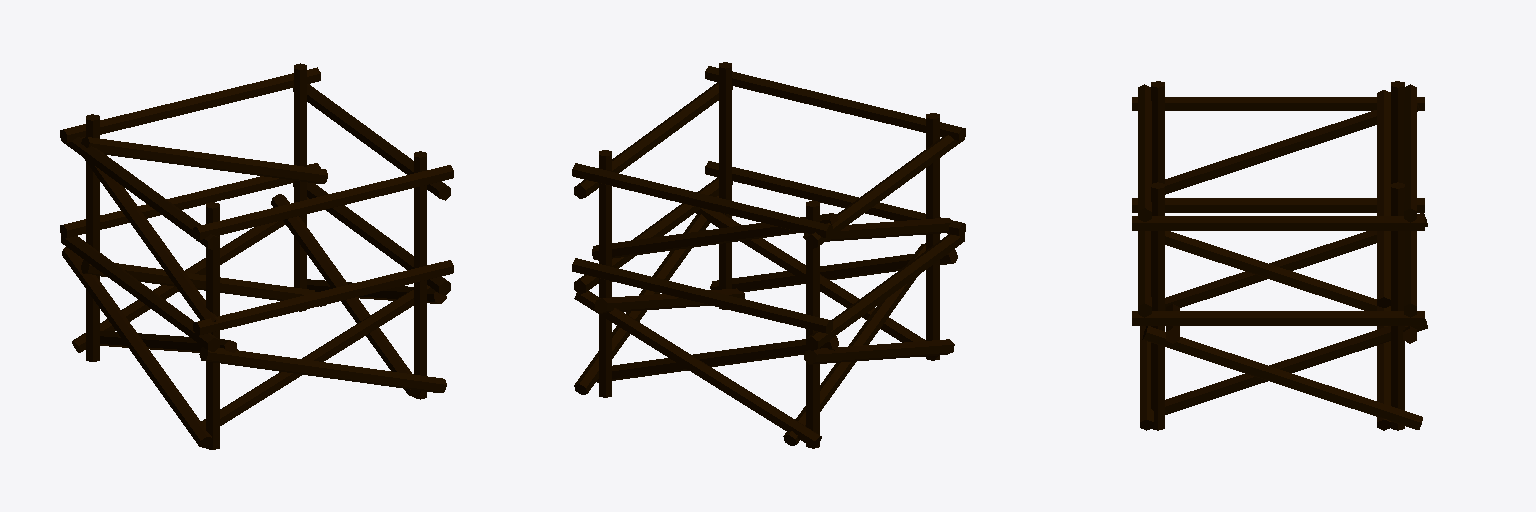
The model's file is BuildingSite0.obj.
3 views of the same model, side by side, from view 1: azimuth 30°, elevation 25°; view 2: azimuth 150°, elevation 25°; view 3: azimuth 270°, elevation 25° (orthographic).
Visible parts, largest first — view 1: Cylinder061, Cylinder073, Cylinder064, Cylinder068, Cylinder057, Cylinder074, Cylinder063, Cylinder070, Cylinder066, Cylinder060, Cylinder054, Cylinder058 (+10 smaller); view 2: Cylinder062, Cylinder058, Cylinder074, Cylinder073, Cylinder057, Cylinder061, Cylinder056, Cylinder060, Cylinder053, Cylinder063, Cylinder064, Cylinder071 (+10 smaller); view 3: Cylinder072, Cylinder059, Cylinder065, Cylinder060, Cylinder070, Cylinder067, Cylinder066, Cylinder071, Cylinder068, Cylinder057, Cylinder053, Cylinder054 (+8 smaller).
Boxes of the visible parts, <box> form: Cylinder061: <box>193,260,453,335</box>; Cylinder073: <box>193,165,453,240</box>; Cylinder064: <box>199,347,446,392</box>; Cylinder068: <box>62,247,212,447</box>; Cylinder057: <box>81,137,327,183</box>; Cylinder074: <box>60,67,320,143</box>; Cylinder063: <box>201,285,430,427</box>; Cylinder070: <box>82,137,217,321</box>; Cylinder066: <box>271,194,420,396</box>; Cylinder060: <box>61,235,219,351</box>; Cylinder054: <box>414,151,426,399</box>; Cylinder058: <box>60,163,320,238</box>; Cylinder062: <box>574,291,821,447</box>; Cylinder058: <box>572,258,832,333</box>; Cylinder074: <box>572,163,832,238</box>; Cylinder073: <box>705,66,965,141</box>; Cylinder057: <box>592,213,838,260</box>; Cylinder061: <box>705,161,965,236</box>; Cylinder056: <box>596,336,838,382</box>; Cylinder060: <box>806,234,964,350</box>; Cylinder053: <box>599,150,611,397</box>; Cylinder063: <box>695,208,938,360</box>; Cylinder064: <box>710,249,957,291</box>; Cylinder071: <box>806,135,964,248</box>; Cylinder072: <box>1132,216,1424,230</box>; Cylinder059: <box>1132,311,1424,325</box>; Cylinder065: <box>1142,326,1422,429</box>; Cylinder060: <box>1132,198,1424,212</box>; Cylinder070: <box>1165,103,1420,194</box>; Cylinder067: <box>1165,231,1376,310</box>; Cylinder066: <box>1165,319,1427,414</box>; Cylinder071: <box>1132,97,1424,110</box>; Cylinder068: <box>1165,213,1427,310</box>; Cylinder057: <box>1377,90,1390,307</box>; Cylinder053: <box>1391,182,1404,430</box>; Cylinder054: <box>1151,182,1164,430</box>.
Bounding box in the file's own units: 11 × 10 × 11.11.